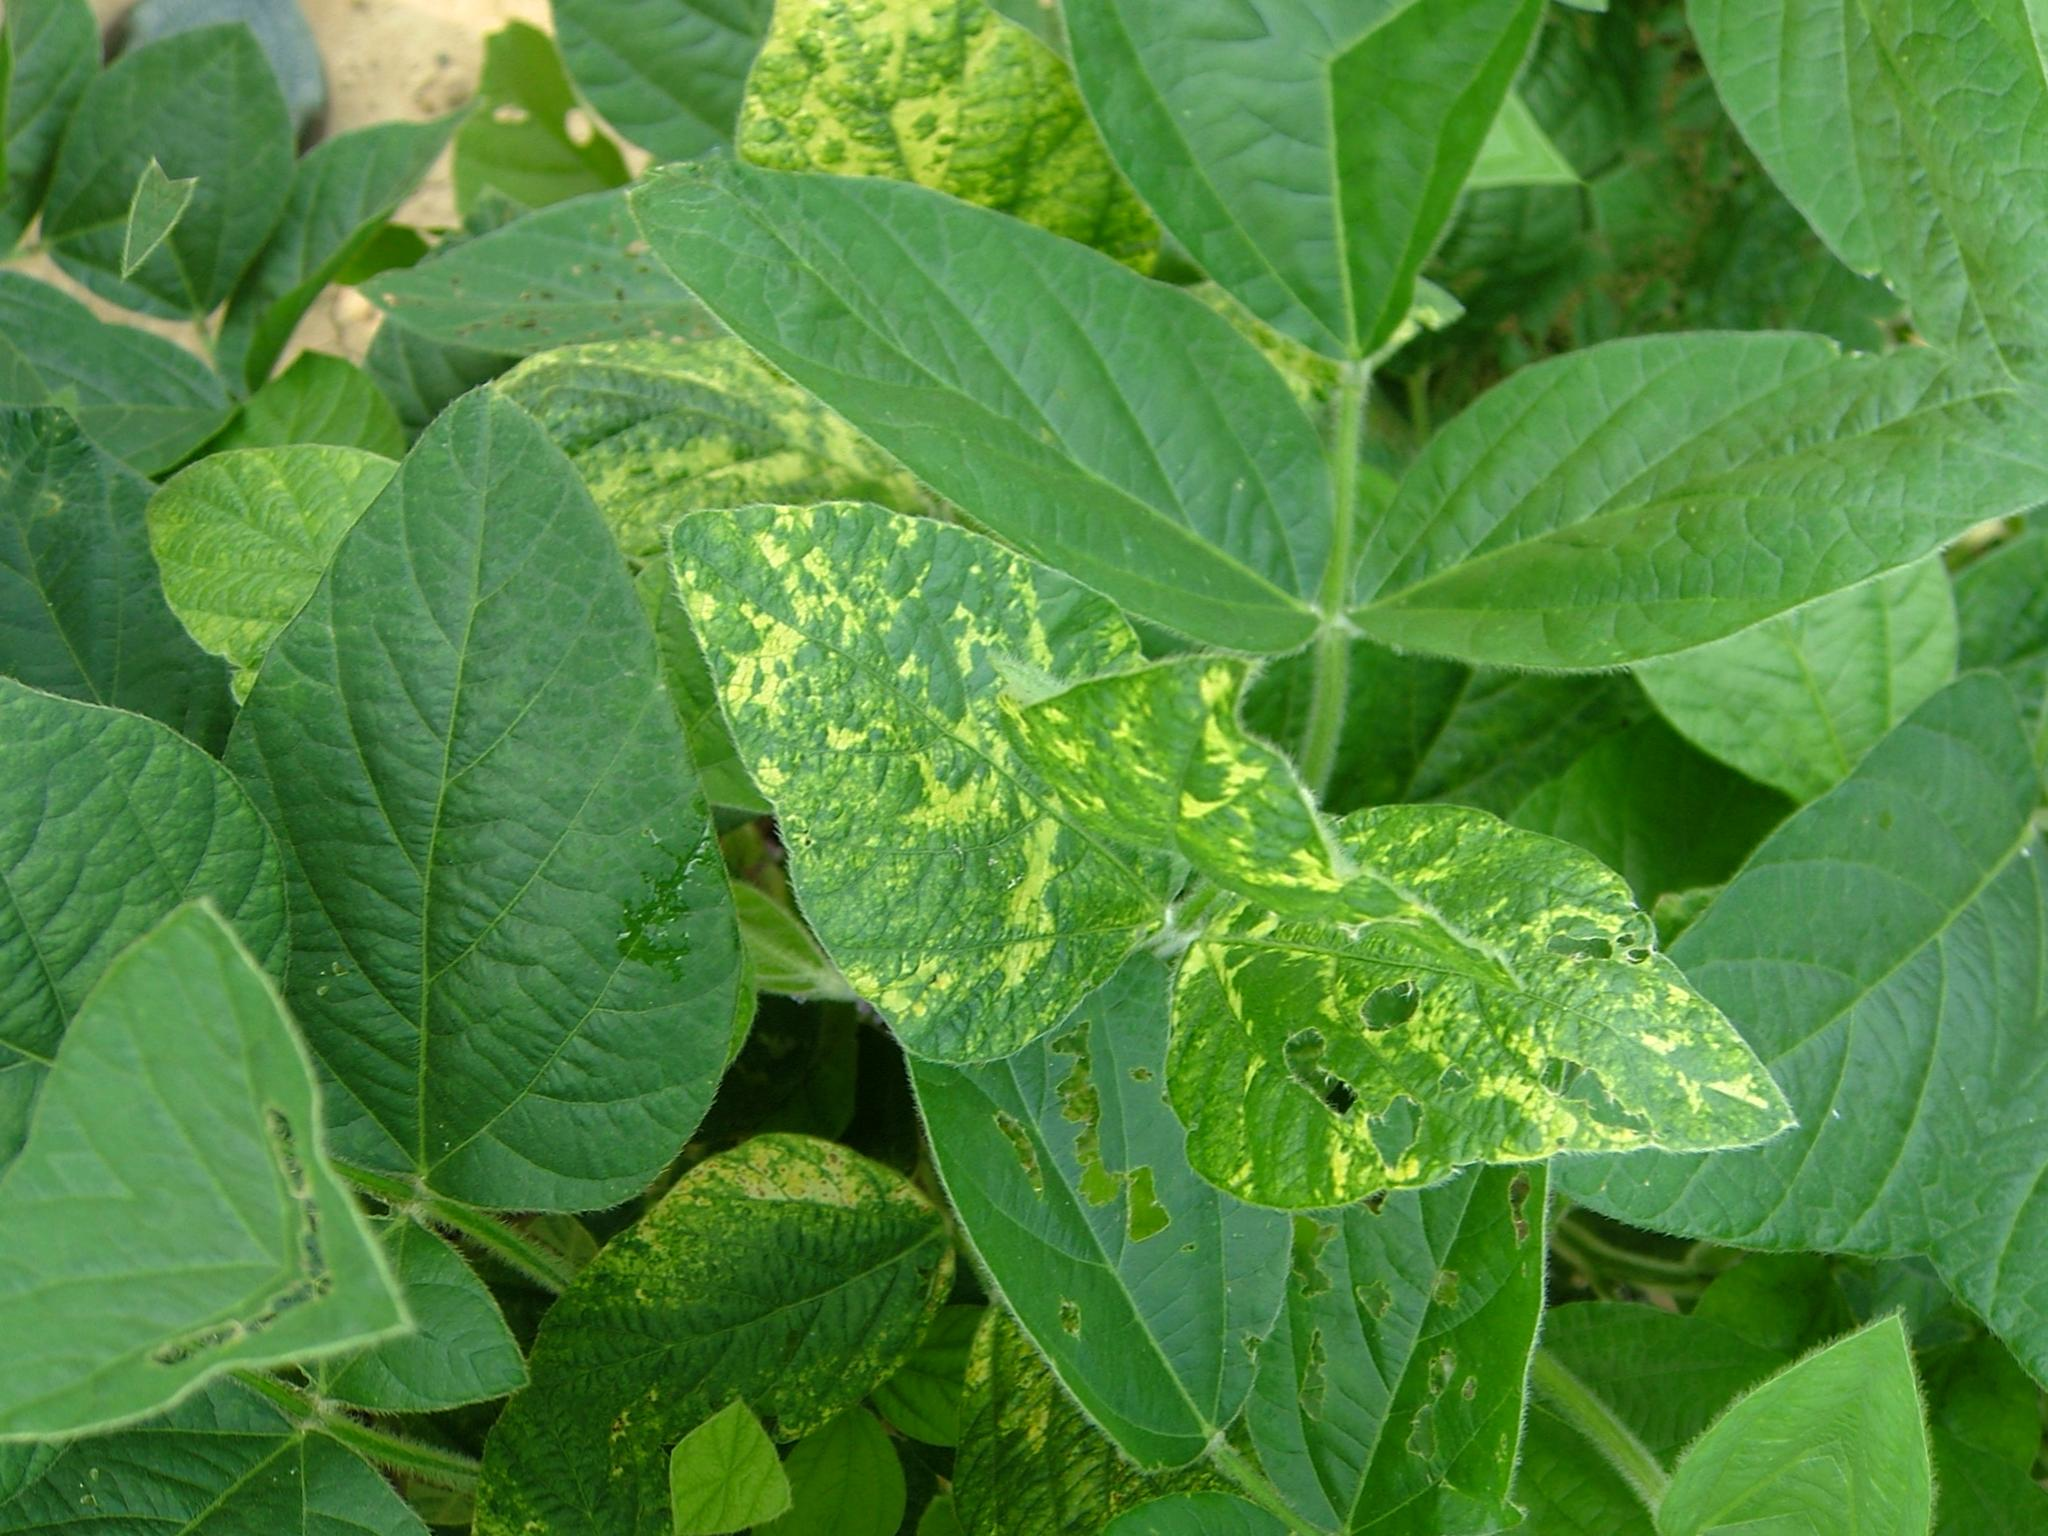Tomato leaf: (584, 62, 1430, 694)
Tomato leaf mosaic virus: (1098, 692, 1877, 1409), (549, 449, 1263, 1109)
